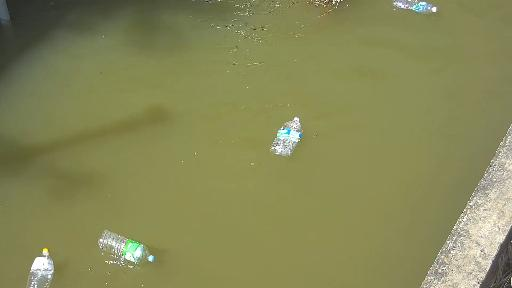plastic: (96, 230, 161, 269), (259, 117, 309, 154), (29, 247, 59, 287), (383, 0, 453, 17)
twig: (285, 0, 363, 11)
